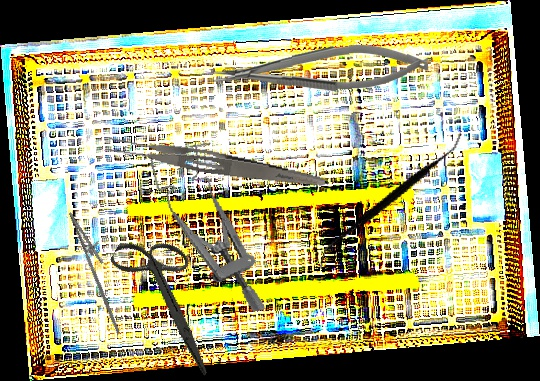Dressing Forceps: (103, 131, 328, 192)
Iris Scissors: (82, 221, 254, 378)
Needle Holder: (54, 207, 143, 334), (213, 43, 429, 93)
Spatula Surgical: (318, 103, 463, 298)
Speculum: (148, 137, 268, 328)
